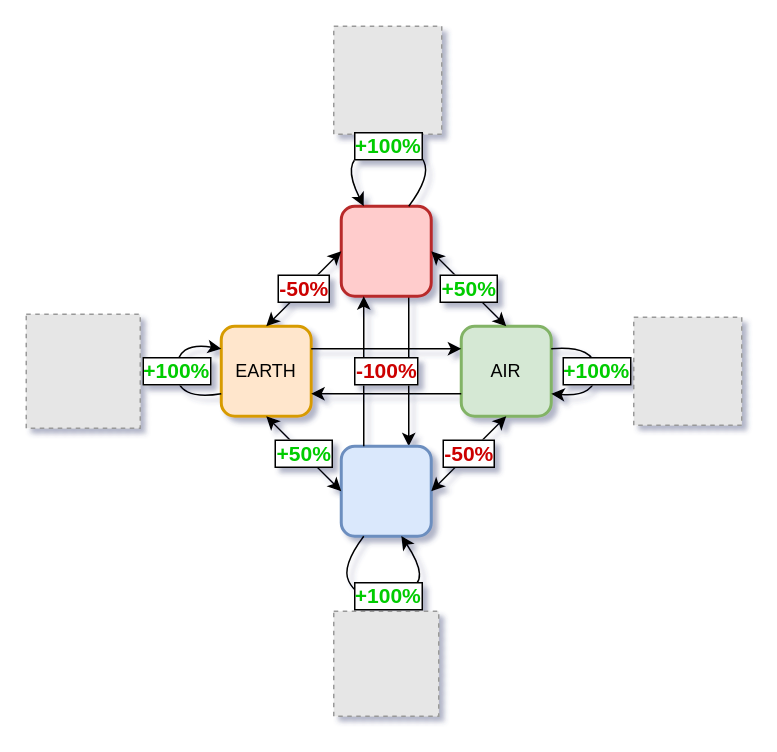
The diagram is 777 pixels wide and 752 high, and some of its shapes have lost their labels. Grey dashed boxes stand in for pictures. The shapes that lost their labels are listed below. From the top down, each one's centre as x and y in pixels, then its label:
At point 385,250: "FIRE".
At point 385,490: "WATER".
